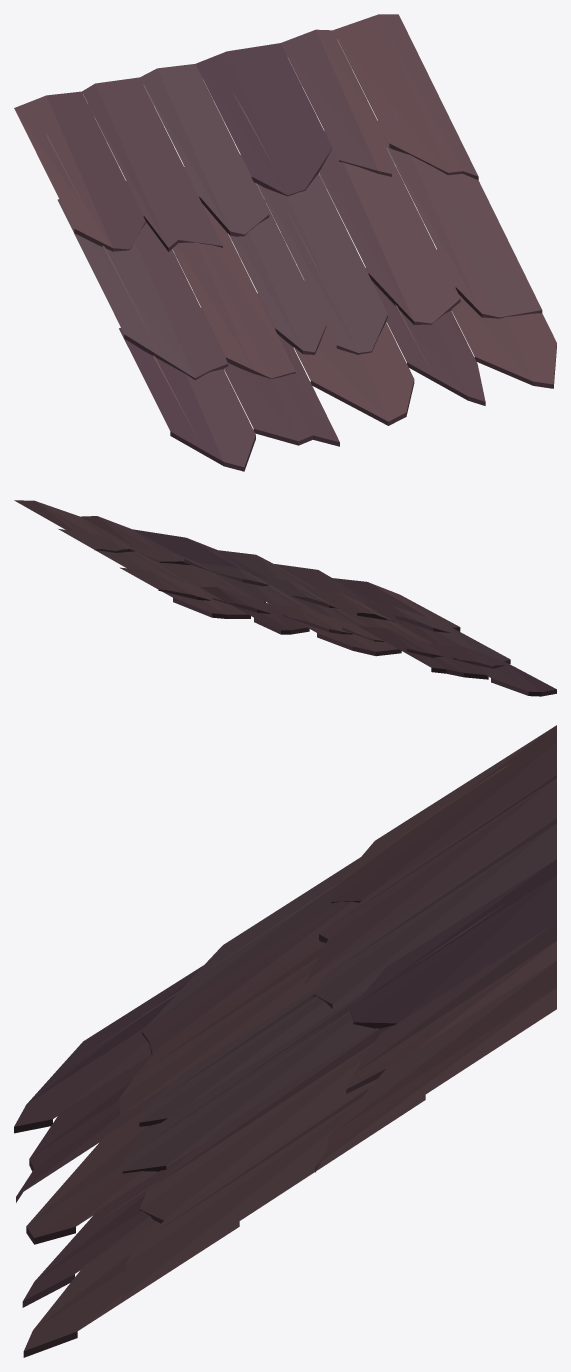
File: ShortEave65.glb
3 views of the same model, one above another, from view 1: azimuth 30°, elevation 25°; view 2: azimuth 150°, elevation 25°; view 3: azimuth 270°, elevation 25° (orthographic). The views are drawn at different scales.
Parts seen in each view (by area): view 1: ShortEave65; view 2: ShortEave65; view 3: ShortEave65.
Boxes of the visible parts, x1,y1,x2,y2 form: ShortEave65: (14,14,556,471); ShortEave65: (14,500,556,696); ShortEave65: (14,725,556,1357).
Bounding box in the file's own units: 2.02 × 1.26 × 1.63.
